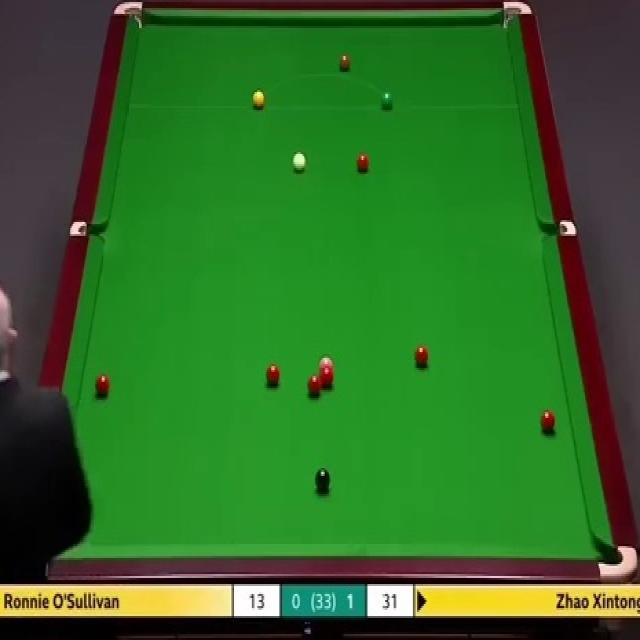pocket: (598, 546, 636, 581), (501, 3, 532, 28), (115, 2, 144, 28), (71, 219, 103, 240), (542, 220, 575, 240)
